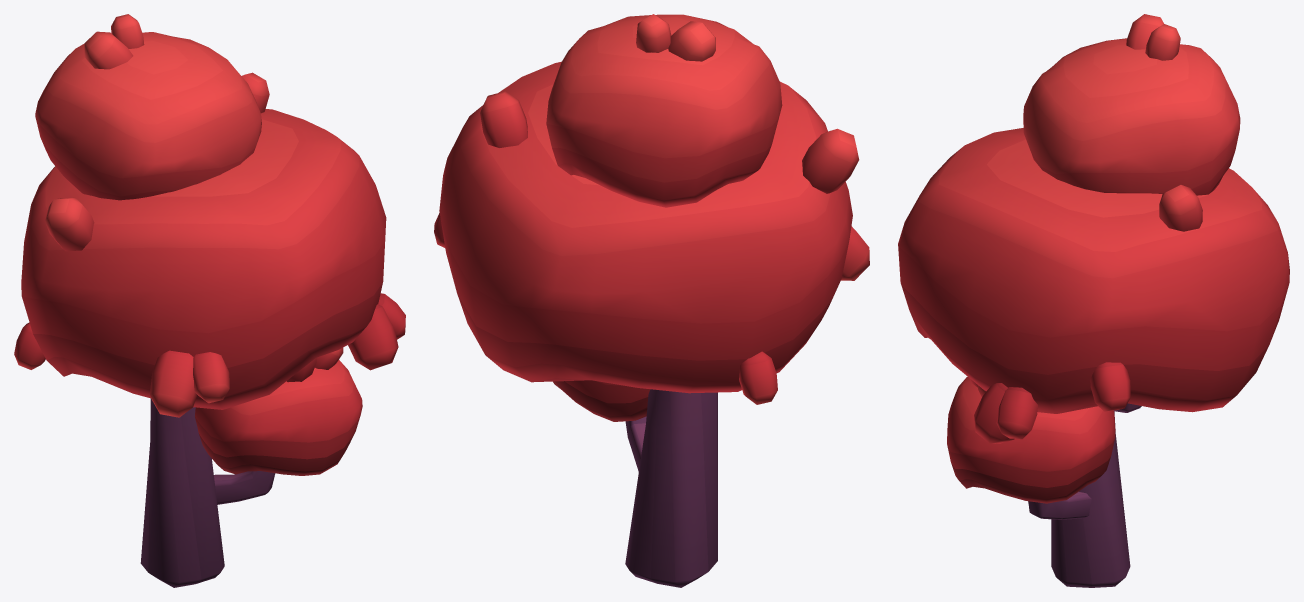
3 renders of one model, left to right at view 1: azimuth 30°, elevation 25°; view 2: azimuth 150°, elevation 25°; view 3: azimuth 270°, elevation 25°, orthographic. The views are drawn at different scales.
Parts seen in each view (by area): view 1: grassland_tree_col3_2; view 2: grassland_tree_col3_2; view 3: grassland_tree_col3_2.
Boxes of the visible parts, x1=… form: grassland_tree_col3_2: x1=14, y1=14, x2=405, y2=587; grassland_tree_col3_2: x1=434, y1=14, x2=869, y2=587; grassland_tree_col3_2: x1=898, y1=14, x2=1289, y2=587.
Bounding box in the file's own units: 4.28 × 6.2 × 4.07.
1 material, 1 textured.
